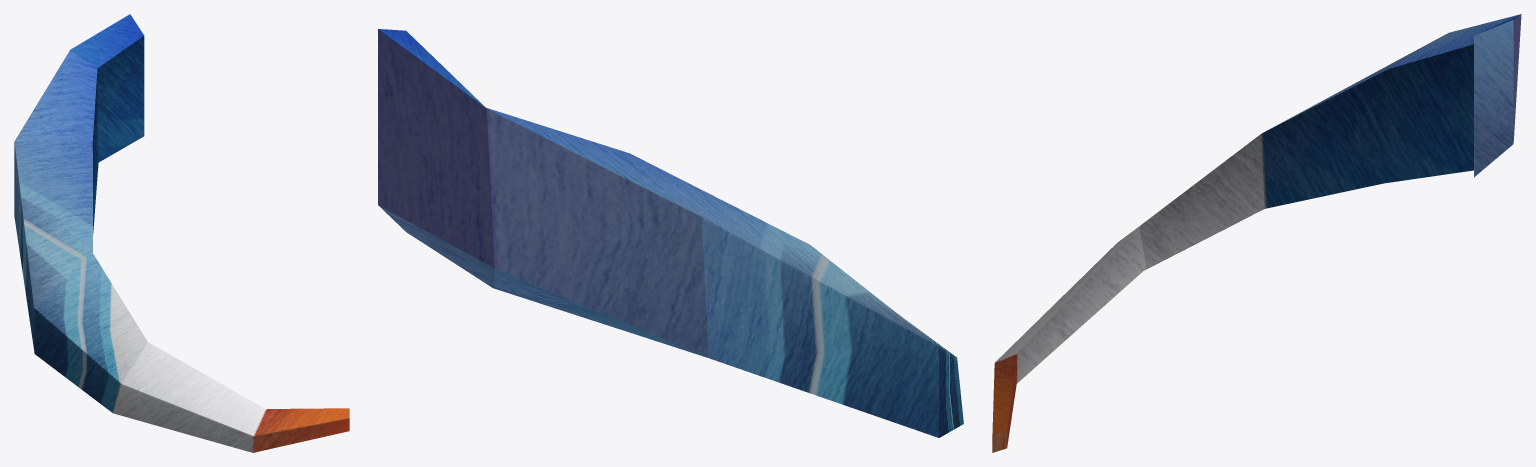
File: dream_2.obj
3 views of the same model, side by side, from view 1: azimuth 30°, elevation 25°; view 2: azimuth 150°, elevation 25°; view 3: azimuth 270°, elevation 25° (orthographic). The views are drawn at different scales.
Parts seen in each view (by area): view 1: horn_R; view 2: horn_R; view 3: horn_R.
Boxes of the visible parts, x1,y1,x2,y2 form: horn_R: (14,14,349,452); horn_R: (378,29,963,437); horn_R: (992,14,1521,452).
Bounding box in the file's own units: 194 × 236 × 276.
1 material, 1 textured.
